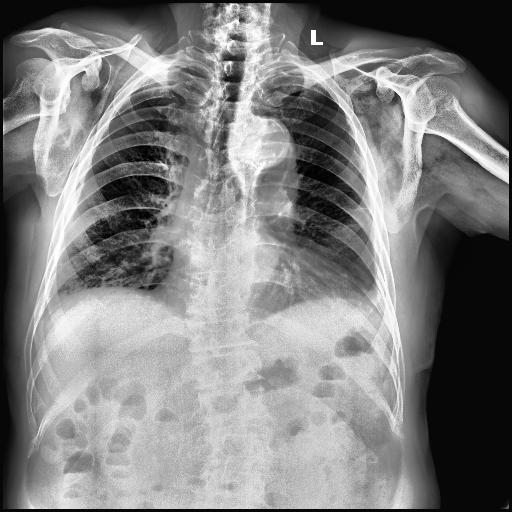0- Aortic enlargement: (226, 116, 298, 188), (231, 113, 297, 181), (233, 114, 295, 166)
11- Pleural thickening: (301, 67, 340, 104), (126, 62, 187, 78)
13- Pulmonary fibrosis: (352, 204, 370, 212)
3- Cardiomegaly: (149, 251, 379, 319), (162, 234, 372, 305), (155, 268, 374, 316)
